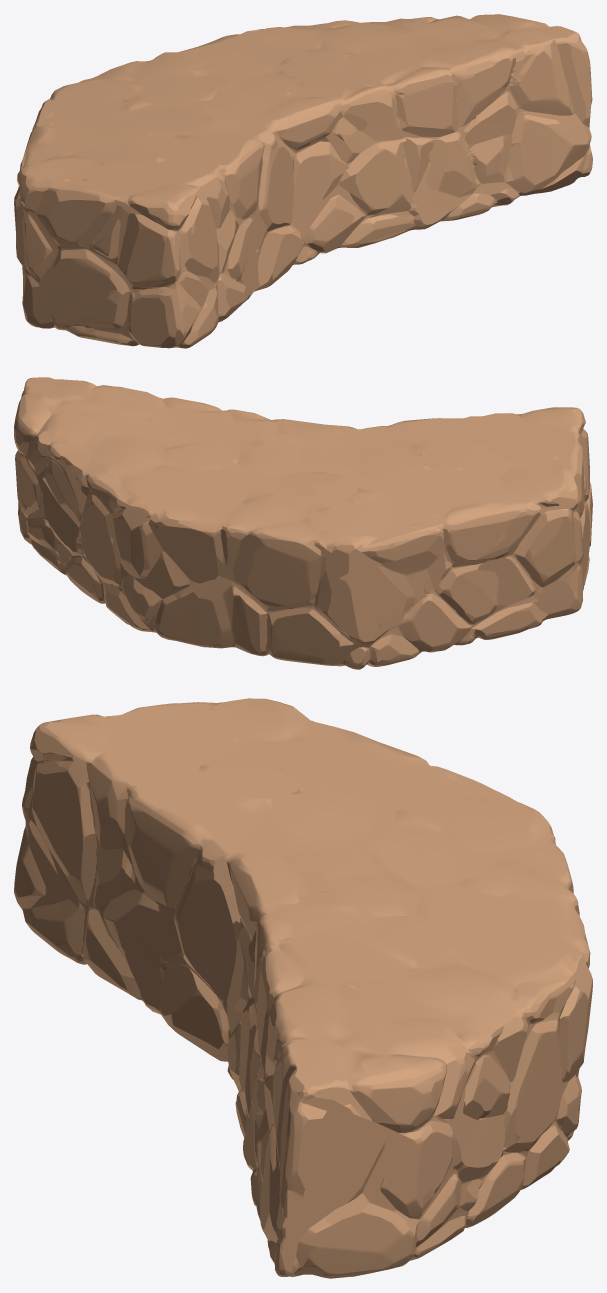
The picture shows the model from 3 angles, top to bottom: view 1: azimuth 30°, elevation 25°; view 2: azimuth 150°, elevation 25°; view 3: azimuth 270°, elevation 25°; orthographic projection. The views are drawn at different scales.
Visible parts, largest first — view 1: Mesh_38_LOD0; view 2: Mesh_38_LOD0; view 3: Mesh_38_LOD0.
Boxes of the visible parts, x1=… form: Mesh_38_LOD0: x1=14, y1=14, x2=592, y2=348; Mesh_38_LOD0: x1=14, y1=377, x2=592, y2=669; Mesh_38_LOD0: x1=14, y1=698, x2=592, y2=1278.
Size of what is drawn, in the model's own units: 8563 by 2533 by 5317.
